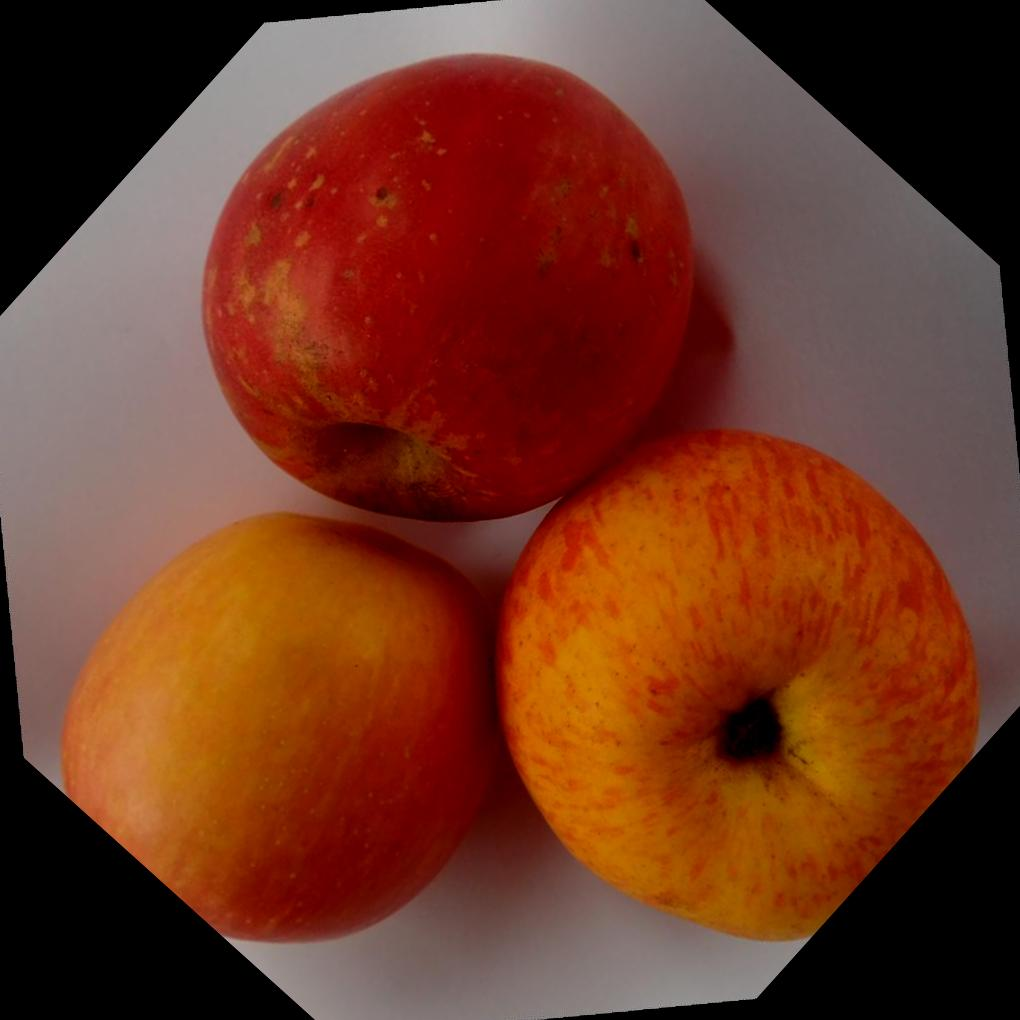FreshGuava: (59, 50, 982, 944)
